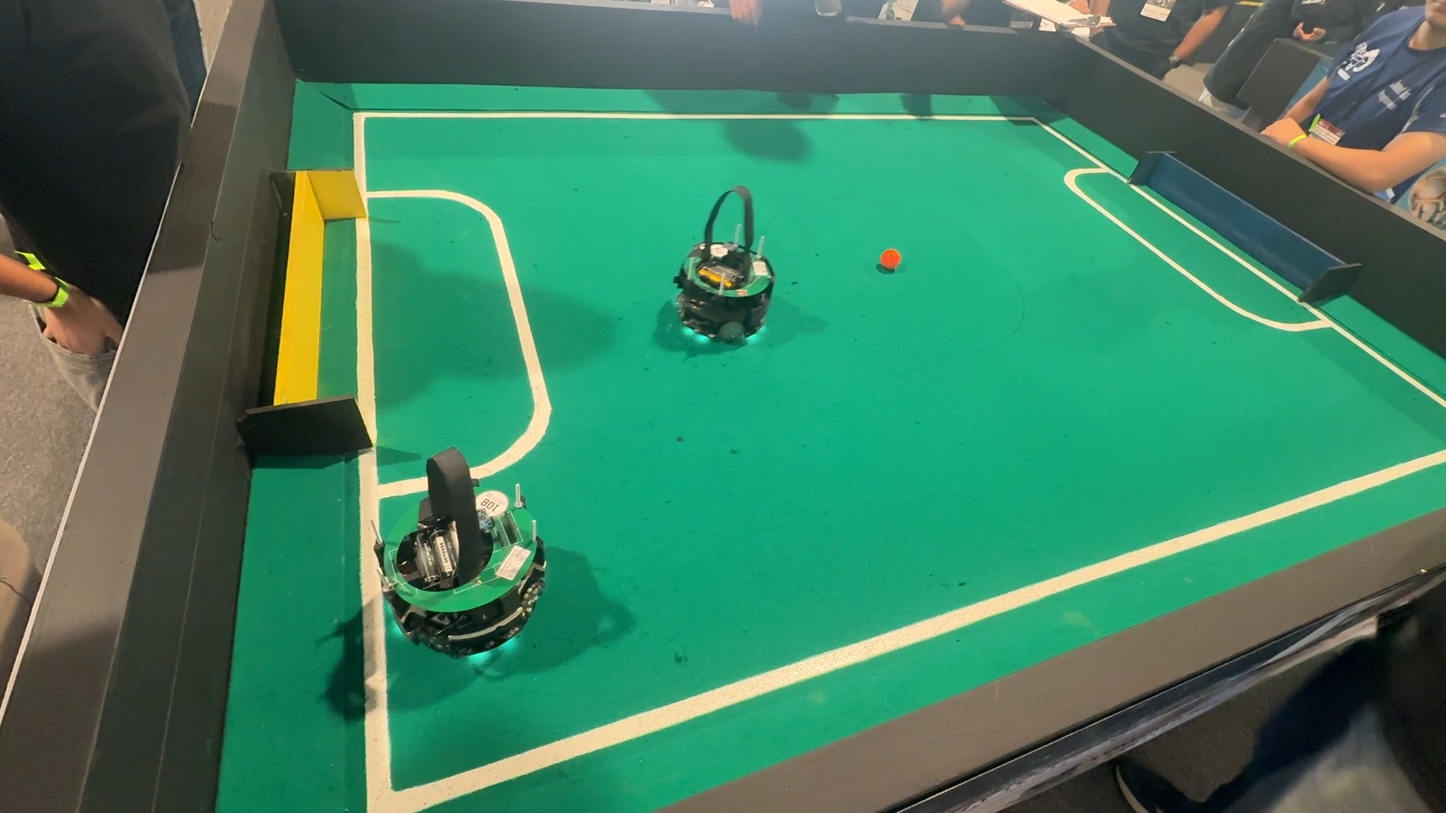Robot: (357, 442, 580, 679), (645, 185, 806, 367)
pelota: (871, 244, 908, 280)
